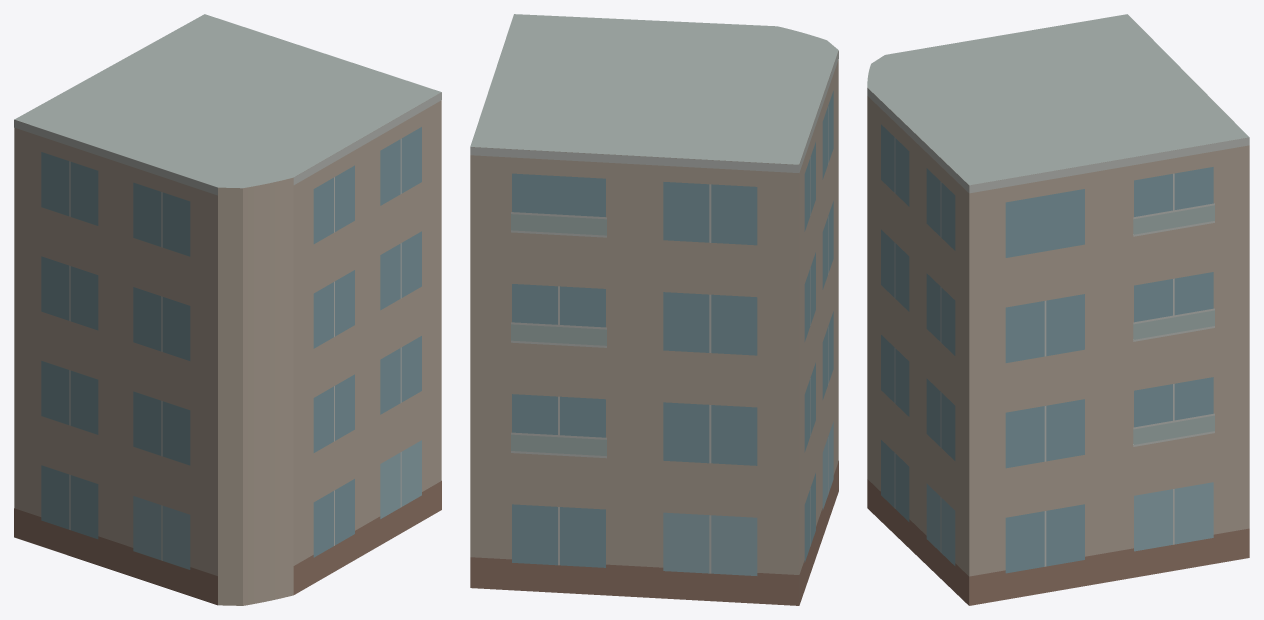
File: survey-upis-32894603.glb
3 views of the same model, side by side, from view 1: azimuth 30°, elevation 25°; view 2: azimuth 150°, elevation 25°; view 3: azimuth 270°, elevation 25° (orthographic). The views are drawn at different scales.
Parts seen in each view (by area): view 1: survey-upis-32894603.tmp; view 2: survey-upis-32894603.tmp; view 3: survey-upis-32894603.tmp.
Boxes of the visible parts, x1=… form: survey-upis-32894603.tmp: x1=14, y1=14, x2=441, y2=605; survey-upis-32894603.tmp: x1=470, y1=14, x2=838, y2=605; survey-upis-32894603.tmp: x1=867, y1=14, x2=1249, y2=605.
Size of the model in its own units: 11.2 by 12.8 by 10.55.
